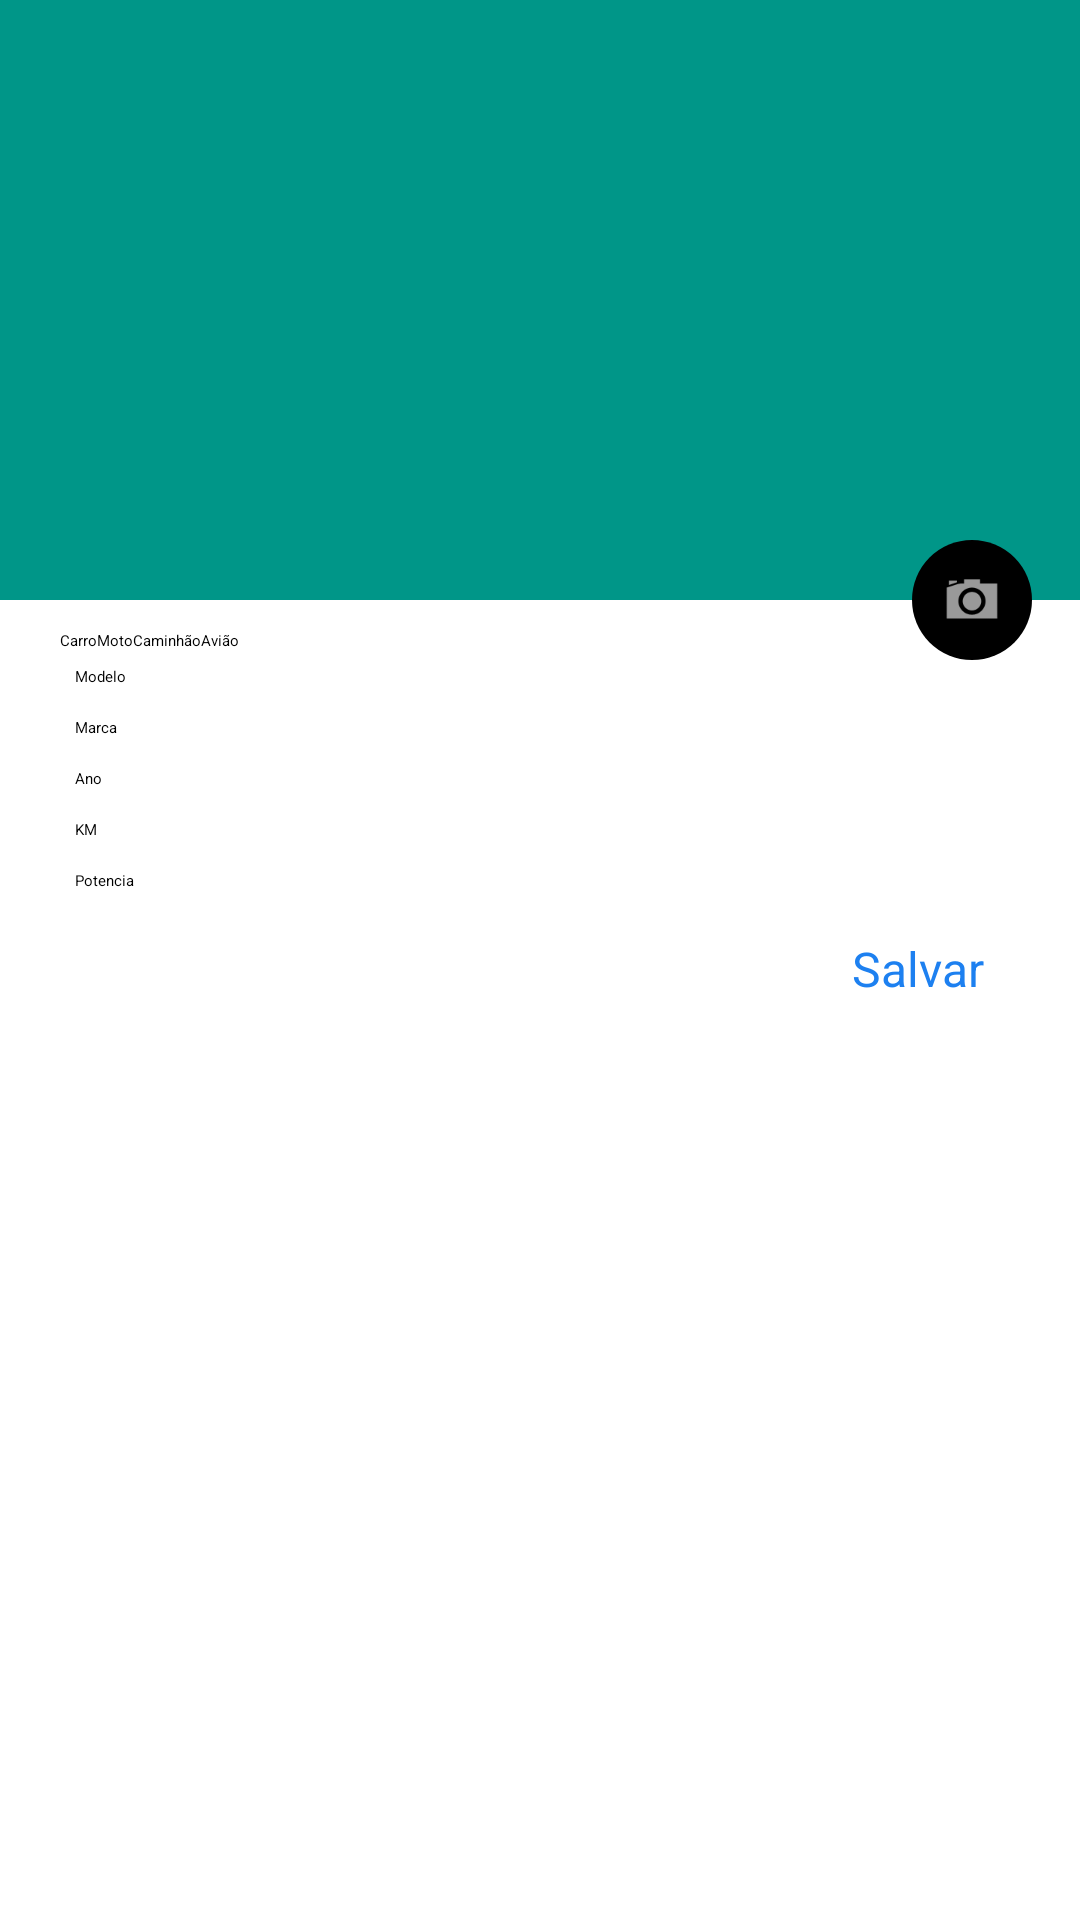

Icons on this 1080×1920 Android screen, each with the point to tap as point (x, y):
camera: point (972, 600)
